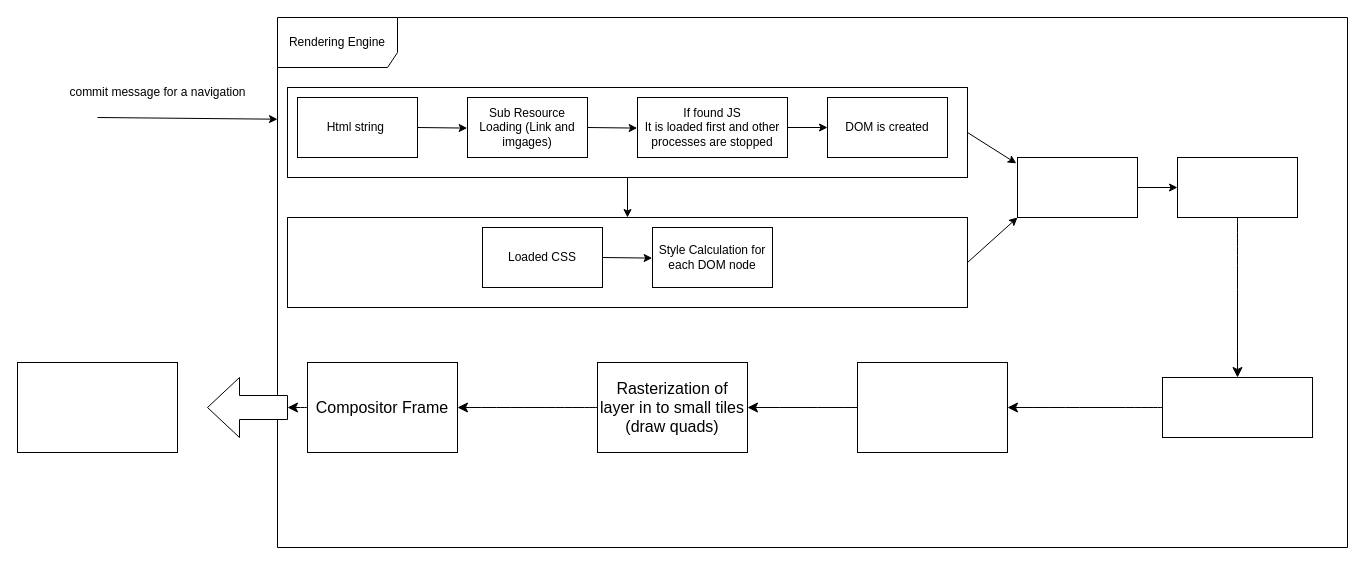
Image size: 1365x565. Some labels were removed from this diagram. Here are the shapes that lost their labels. From the top down, the centre of each, then its label:
point 1077,187: Layout Tree
point 1237,187: Paint records
point 97,407: Browser's work to handle gpu tasks to show frame
point 932,407: Main thread commit this to compositer thread
point 1237,407: Layer Tree
